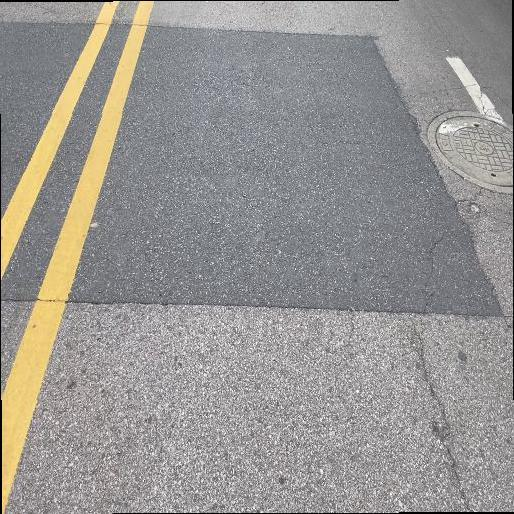Sambungan: (0, 21, 501, 310)
